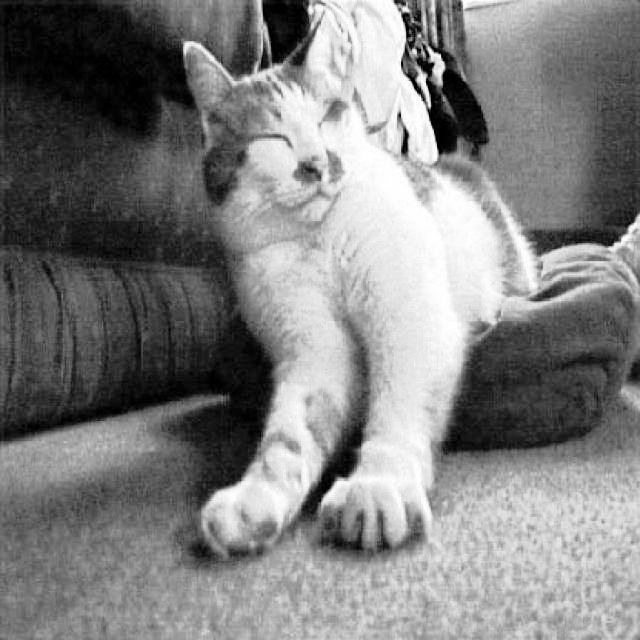Cat: (176, 0, 539, 563)
